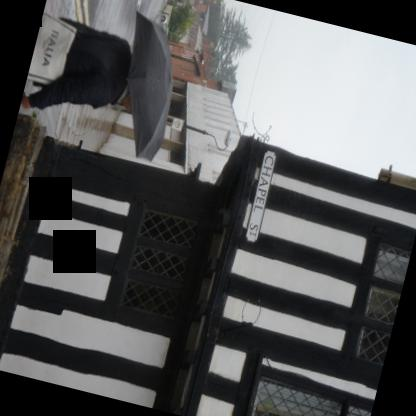handbag: (25, 12, 77, 85)
